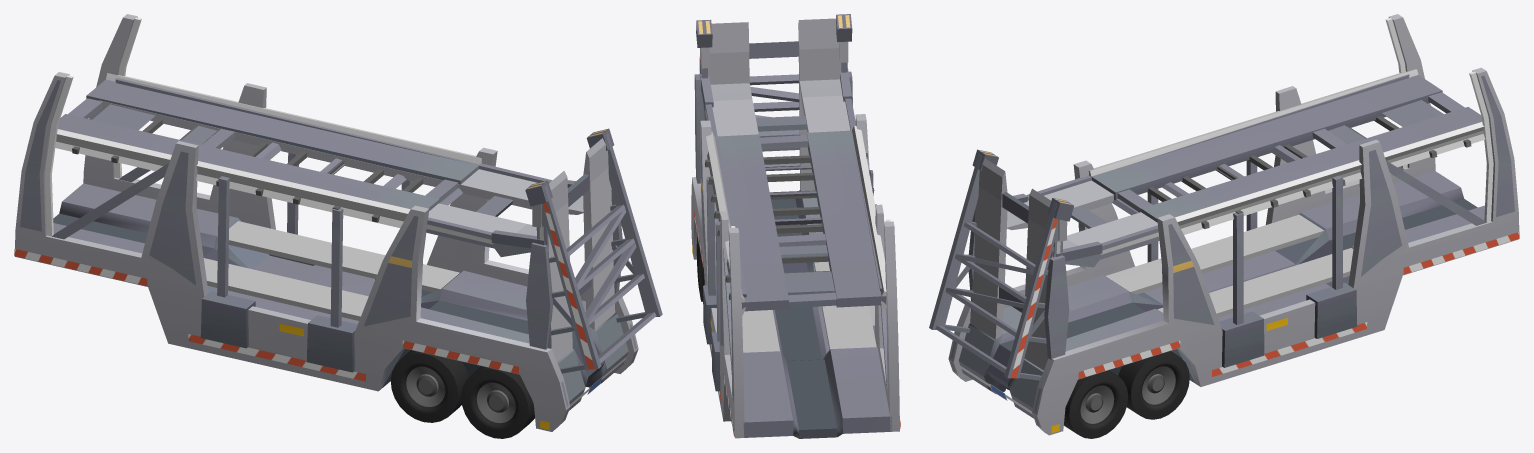
File: TrailerPallet.fbx
3 views of the same model, side by side, from view 1: azimuth 30°, elevation 25°; view 2: azimuth 150°, elevation 25°; view 3: azimuth 270°, elevation 25° (orthographic). The views are drawn at different scales.
Visible parts, largest first — view 1: Trailer, pallet_slide_short, pallet_slide_long, LeftWheel_F, LeftWheel_B; view 2: Trailer, pallet_slide_short, pallet_slide_long, RightWheel_B; view 3: Trailer, pallet_slide_short, pallet_slide_long, RightWheel_F, RightWheel_B.
Boxes of the visible parts, x1=… form: Trailer: x1=14, y1=14, x2=638, y2=431; pallet_slide_short: x1=525, y1=128, x2=662, y2=373; pallet_slide_long: x1=92, y1=78, x2=584, y2=256; LeftWheel_F: x1=390, y1=350, x2=468, y2=422; LeftWheel_B: x1=461, y1=366, x2=534, y2=438; Trailer: x1=691, y1=71, x2=900, y2=438; pallet_slide_short: x1=696, y1=14, x2=852, y2=190; pallet_slide_long: x1=700, y1=68, x2=882, y2=297; RightWheel_B: x1=696, y1=236, x2=702, y2=301; Trailer: x1=948, y1=14, x2=1519, y2=435; pallet_slide_short: x1=929, y1=149, x2=1073, y2=380; pallet_slide_long: x1=1007, y1=74, x2=1481, y2=267; RightWheel_F: x1=1118, y1=351, x2=1189, y2=419; RightWheel_B: x1=1063, y1=370, x2=1128, y2=438.
Size of what is drawn, in the model's own units: 386 by 237 by 488.
